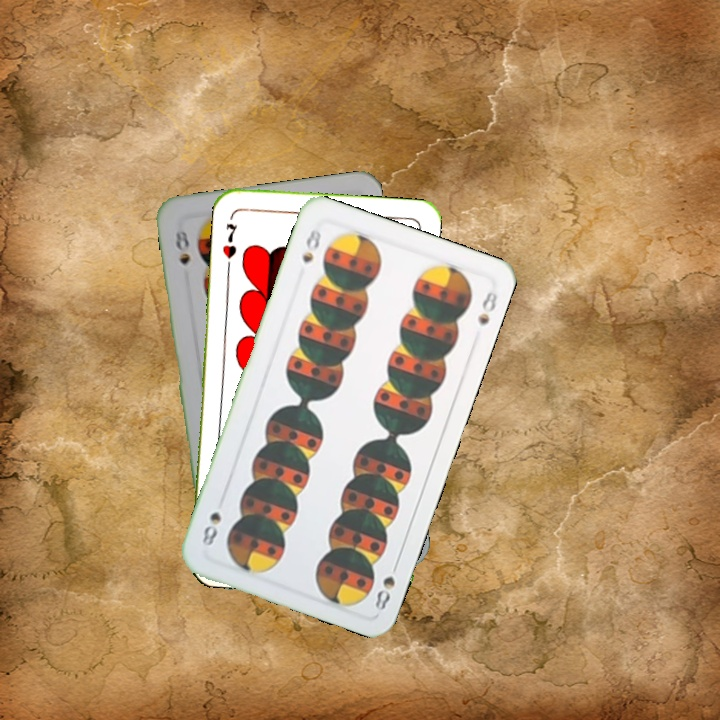H7: (218, 219, 240, 261)
S8: (371, 556, 402, 613), (298, 224, 324, 266), (171, 220, 192, 267)
